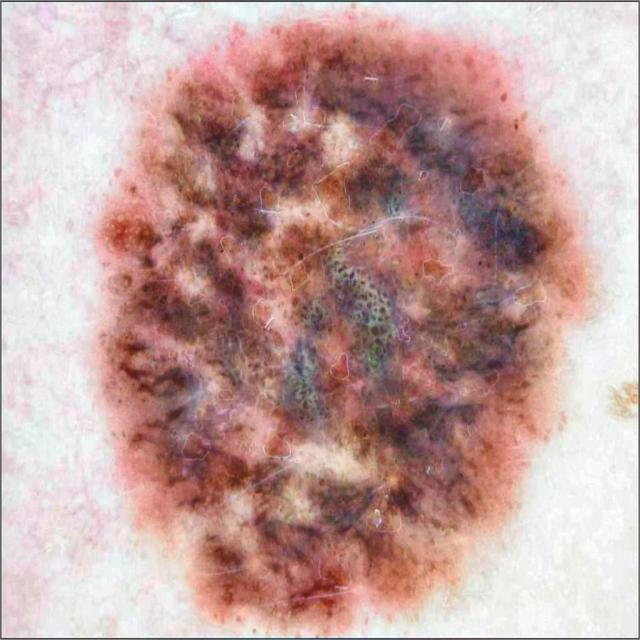Melanocytic-Nevi-NV-: (99, 17, 591, 628)
